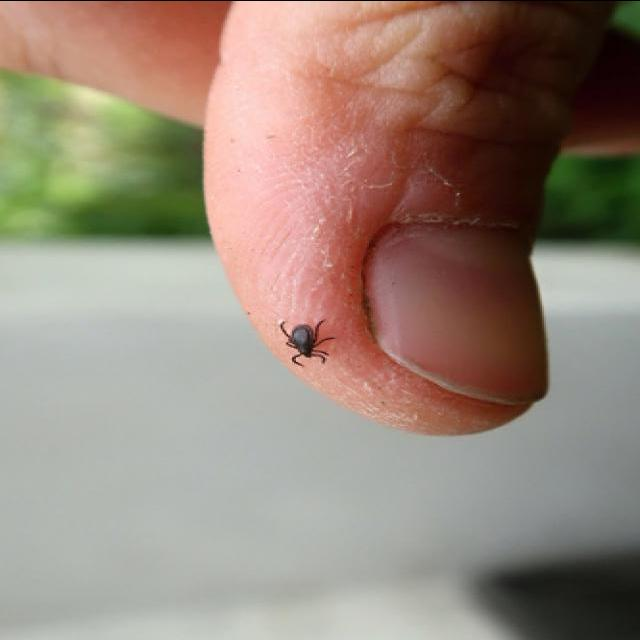Ixodes Ricinus-M: (279, 319, 336, 362)
